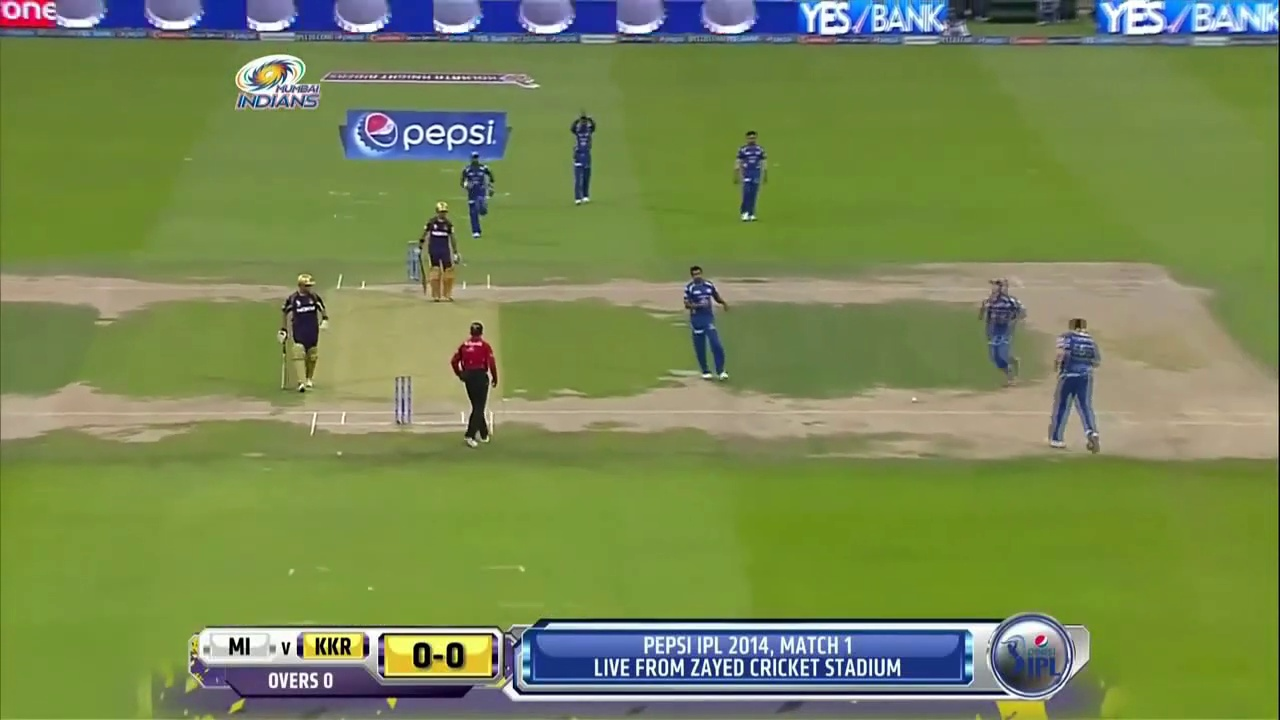bat: (280, 346, 287, 389)
stumps: (395, 374, 412, 427)
